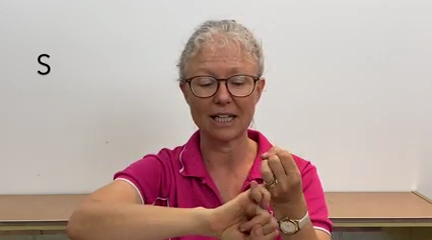S: (204, 141, 317, 240)
